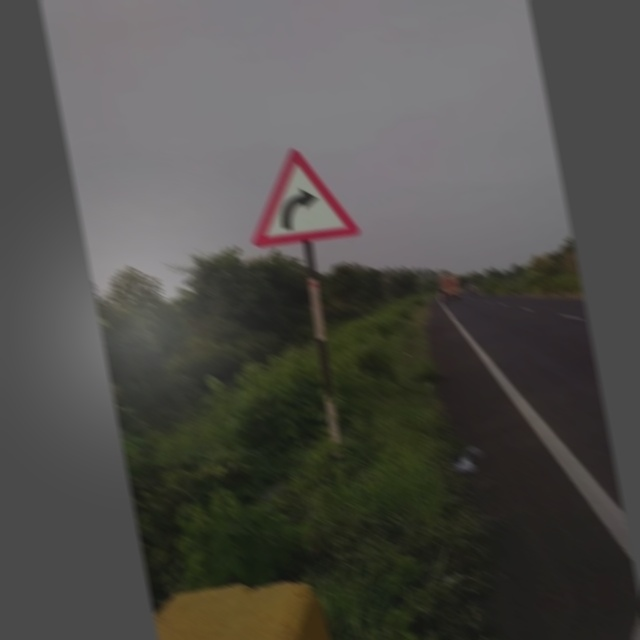Right_Hand_Curve: (235, 139, 364, 255)
